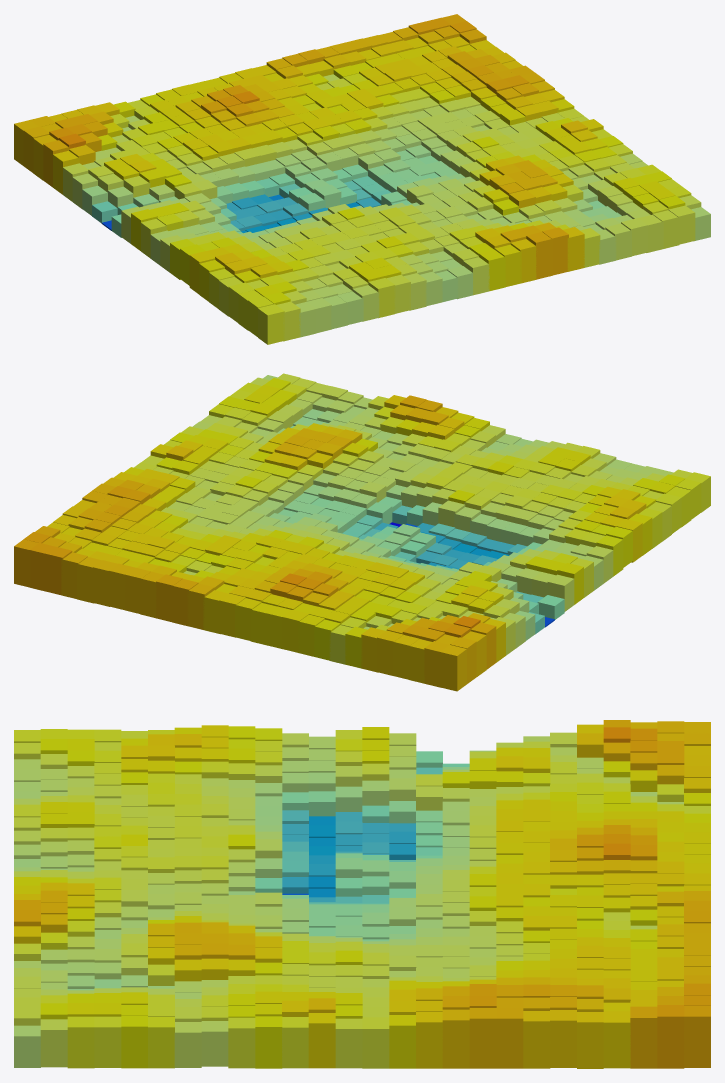
Rendered from population.glb.
3 views of the same model, one above another, from view 1: azimuth 30°, elevation 25°; view 2: azimuth 150°, elevation 25°; view 3: azimuth 270°, elevation 25° (orthographic). The views are drawn at different scales.
Parts seen in each view (by area): view 1: population; view 2: population; view 3: population.
Boxes of the visible parts, x1,y1,x2,y2 form: population: [14, 14, 710, 344]; population: [14, 373, 710, 691]; population: [14, 720, 710, 1068].
Size of the model in its own units: 2608 by 226 by 2586.
